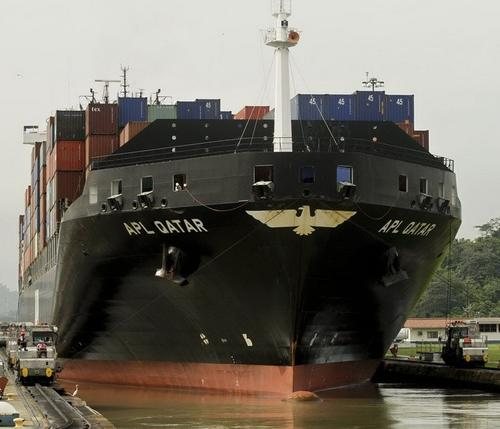Cargoship: (8, 58, 464, 396)
